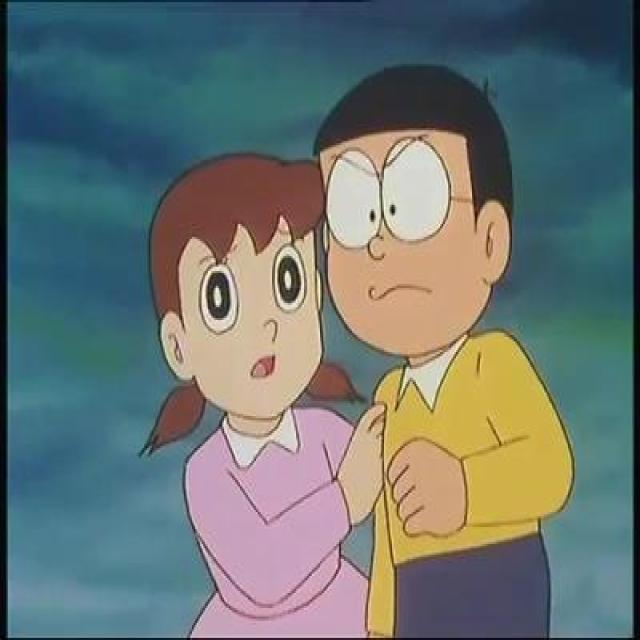nobita: (314, 55, 522, 362)
shizuka: (134, 145, 368, 444)
